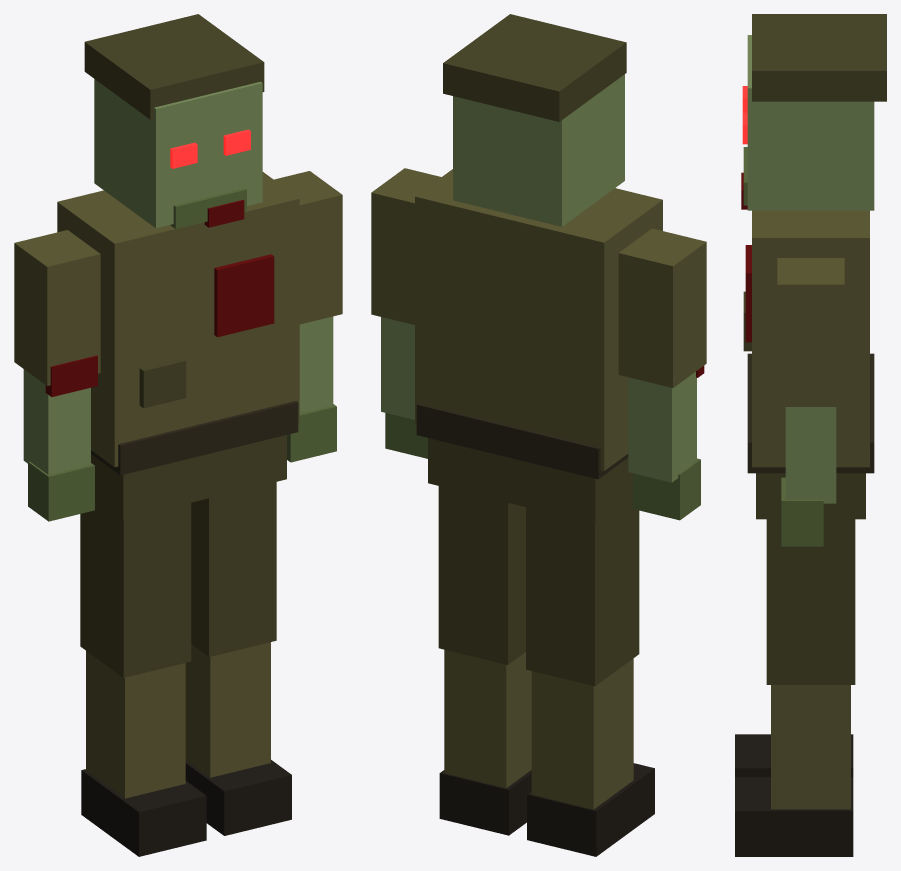
File: zombie_soldier.glb
The picture shows the model from 3 angles, left to right: view 1: azimuth 30°, elevation 25°; view 2: azimuth 150°, elevation 25°; view 3: azimuth 270°, elevation 25°; orthographic projection. The views are drawn at different scales.
Parts seen in each view (by area): view 1: Torso, LegR, Head, LegL, ArmR, ArmL, Hips; view 2: Torso, LegR, Head, LegL, ArmR, ArmL, Hips; view 3: LegL, Head, Torso, ArmL, Hips, LegR.
Part boxes in pixels (box(x1,y1,x2,y2)): Torso: box(57, 172, 299, 475); LegR: box(80, 499, 206, 856); Head: box(84, 14, 264, 228); LegL: box(185, 482, 291, 835); ArmR: box(14, 230, 100, 521); ArmL: box(274, 171, 342, 462); Hips: box(91, 435, 286, 518); Torso: box(415, 169, 662, 479); LegR: box(526, 497, 654, 856); Head: box(443, 14, 626, 226); LegL: box(438, 486, 531, 835); ArmR: box(618, 228, 706, 520); ArmL: box(371, 168, 441, 458); Hips: box(428, 438, 632, 523); LegL: box(735, 519, 855, 856); Head: box(741, 14, 886, 210); Torso: box(743, 210, 874, 473); ArmL: box(777, 258, 844, 546); Hips: box(756, 473, 865, 519); LegR: box(735, 734, 853, 777).
Bounding box in the file's own units: 0.83 × 2.03 × 0.36.
